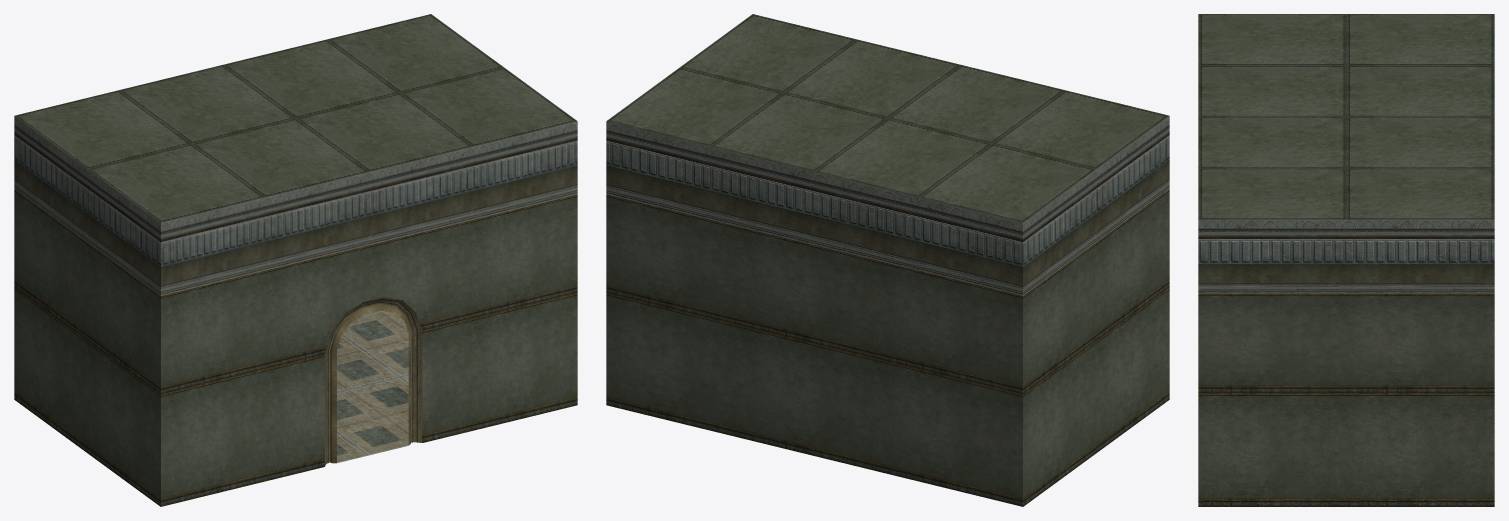
Rendered from mun_tato_hotel_s01_r9_mesh_meetingroom2.fbx.
The picture shows the model from 3 angles, left to right: view 1: azimuth 30°, elevation 25°; view 2: azimuth 150°, elevation 25°; view 3: azimuth 270°, elevation 25°; orthographic projection.
Visible parts, largest first — view 1: mesh_node; view 2: mesh_node; view 3: mesh_node.
Boxes of the visible parts, x1=… form: mesh_node: x1=14, y1=14, x2=577, y2=506; mesh_node: x1=606, y1=14, x2=1169, y2=506; mesh_node: x1=1198, y1=14, x2=1494, y2=506.
Size of the model in its own units: 9.51 by 6.2 by 5.79.
